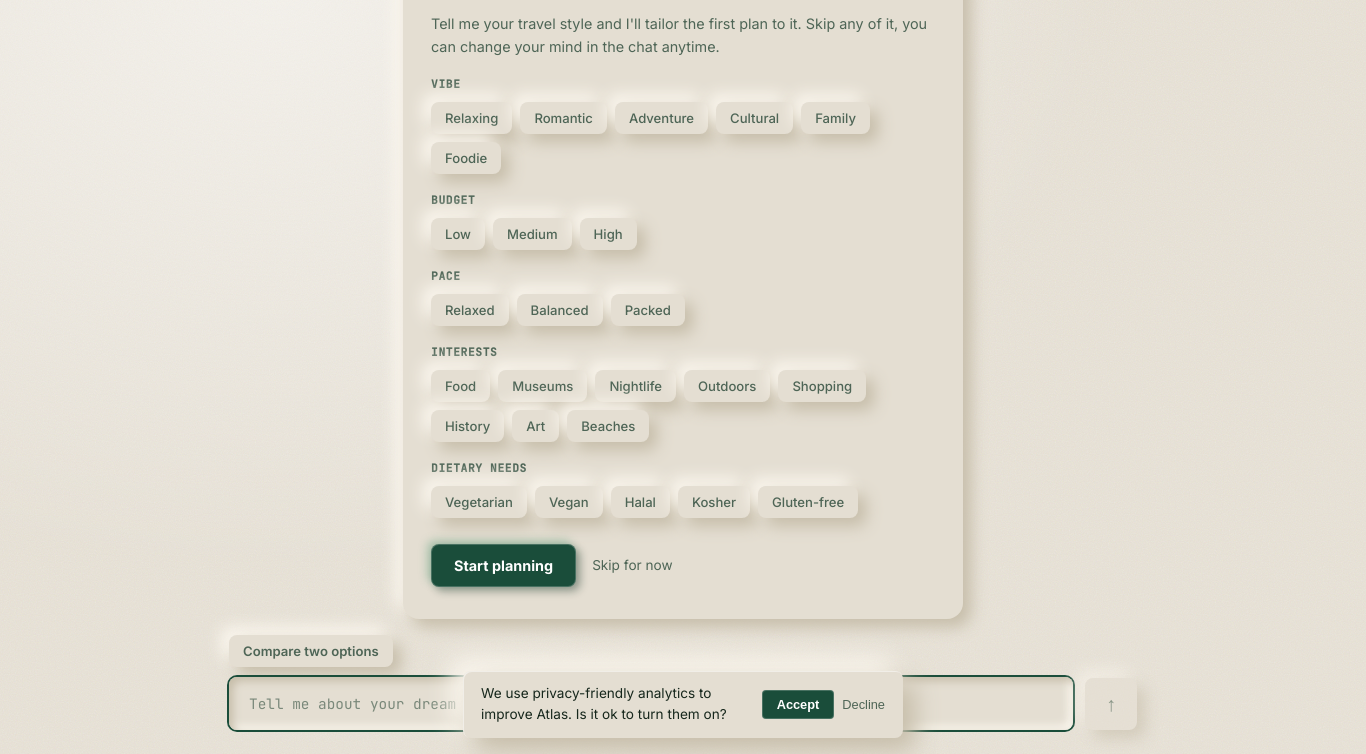
Test: a first-run anonymous user sees the skippable intake before the welcome screen
The width and height of the screenshot is (1366, 754).
(page scrolled)
Check: the button "Start planning" is shown, box [431,544,576,587]
Check: the text "Where shall we" is not shown
Click the button "Skip for now" at (632, 565), box [592,557,672,573]
(page scrolled)
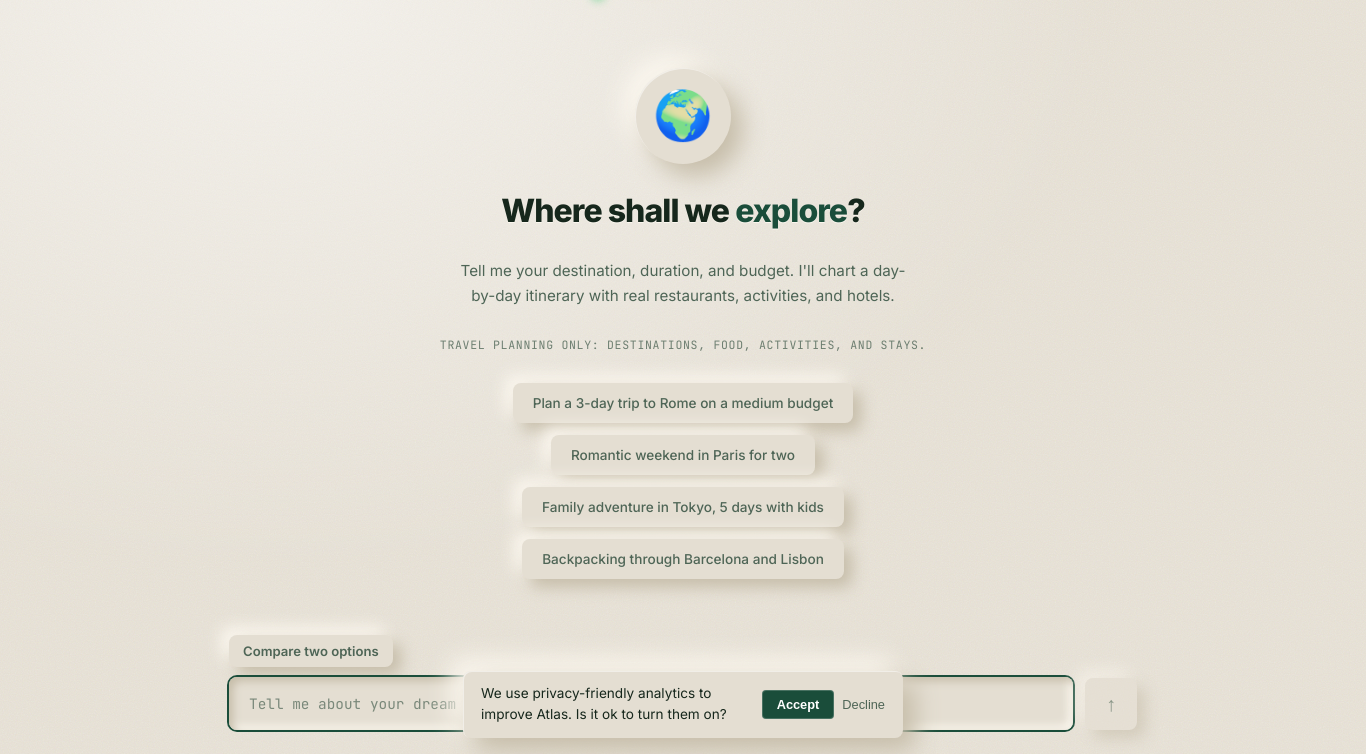
Check: the heading "Where shall we explore?" is shown, box [501,192,865,230]
